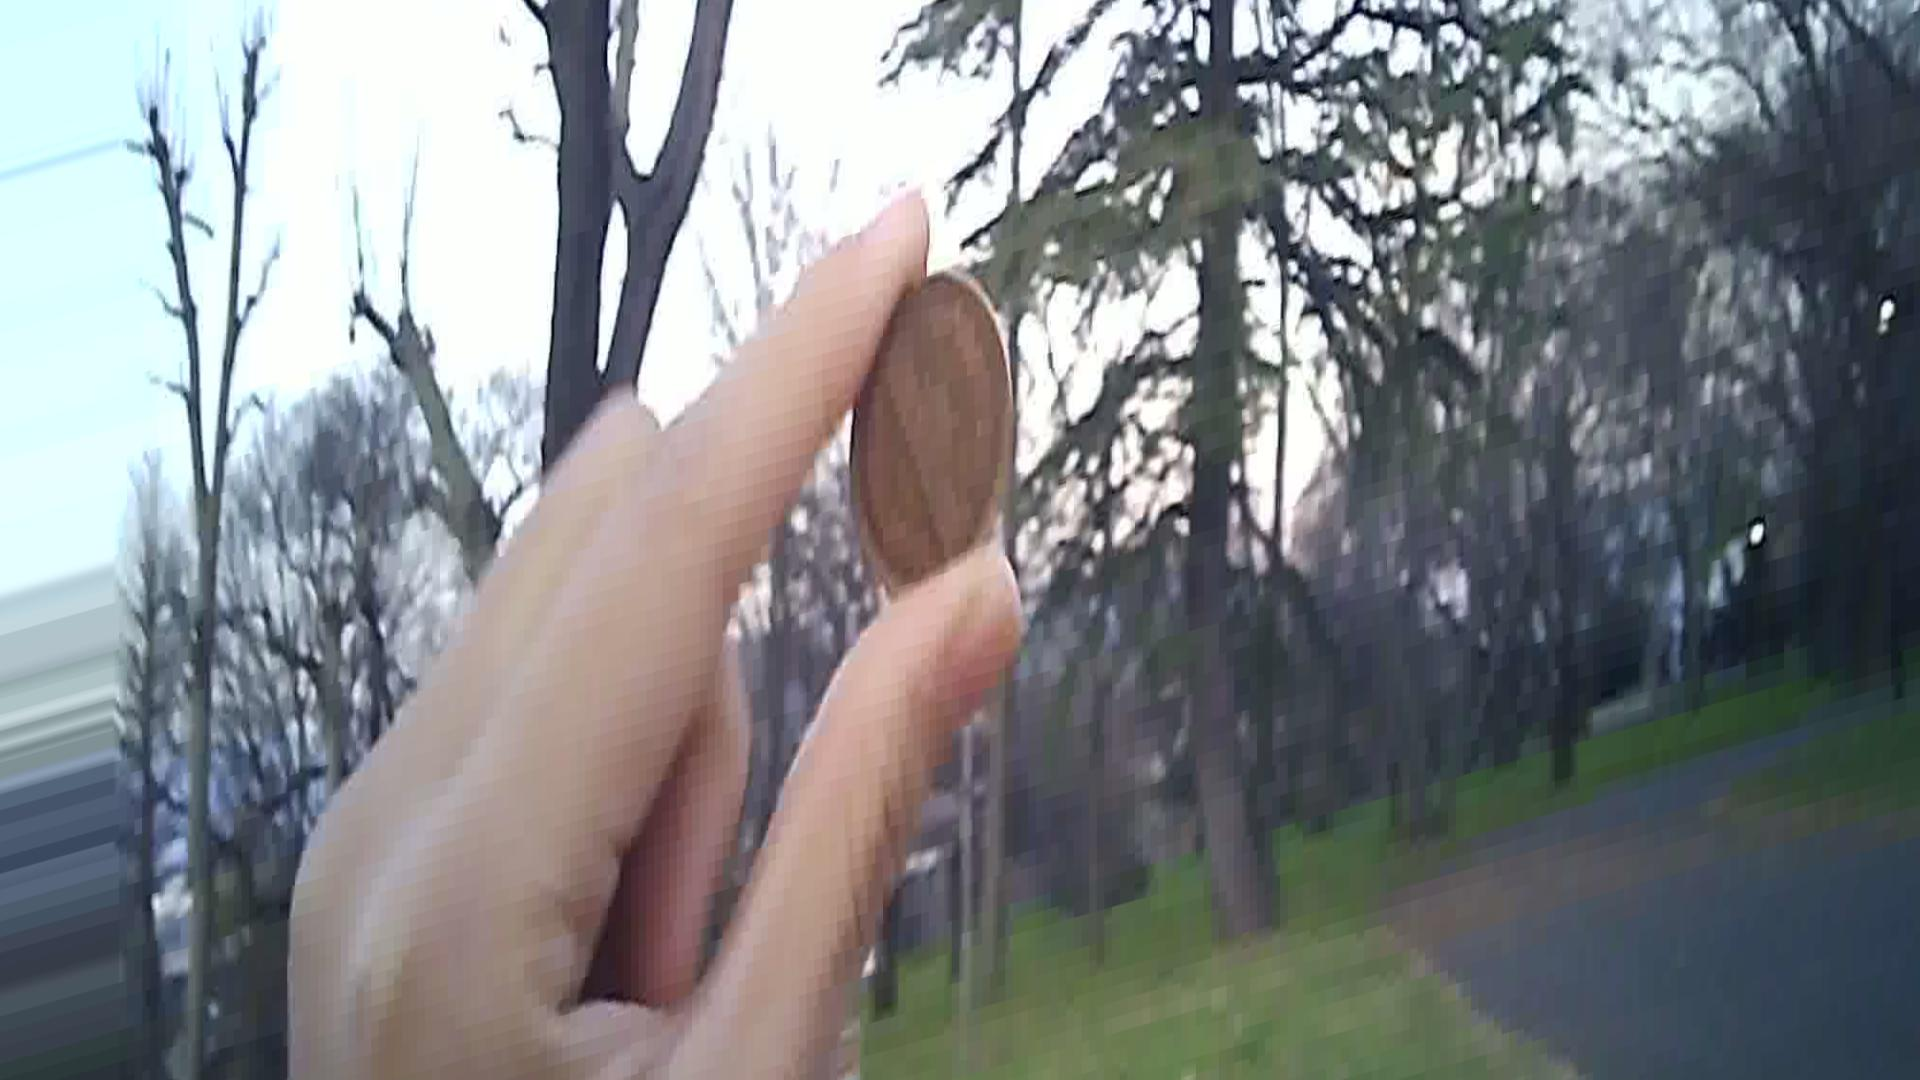10 Yen: (847, 262, 1019, 575)
